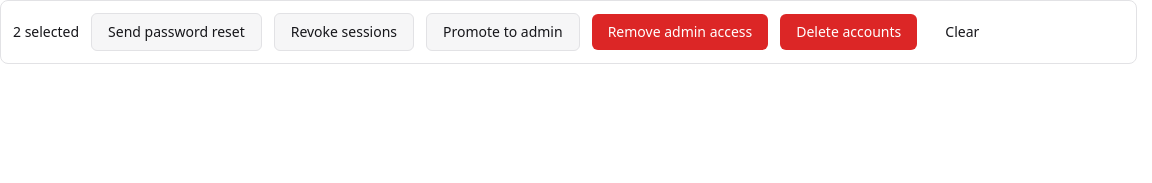
Test case: UserBulkActions › sends a password reset without confirming, and reports success
Expected: the text "2 selected" is shown, x1=13 y1=22 x2=79 y2=42
Step 1. Click the button "Send password reset" → (176, 32), box x1=91 y1=13 x2=262 y2=51
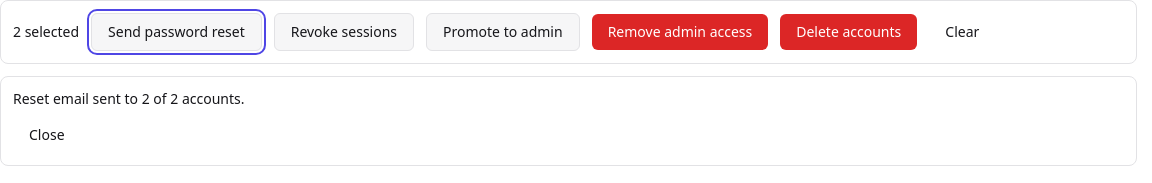
Expected: the text "Reset email sent to 2 of 2 accounts." is shown, x1=13 y1=89 x2=244 y2=108
